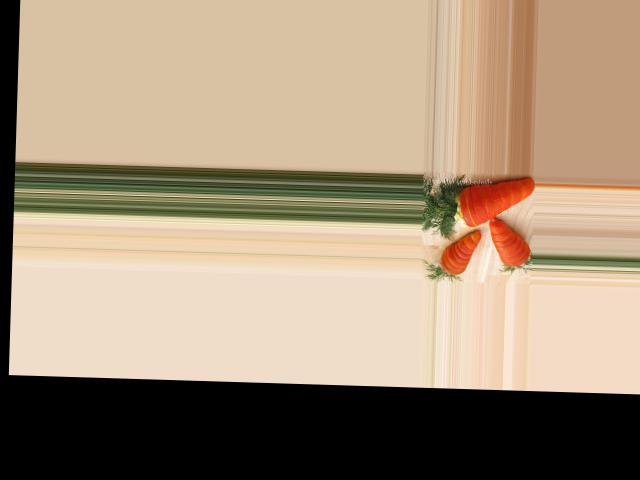carrot: (450, 171, 534, 234)
